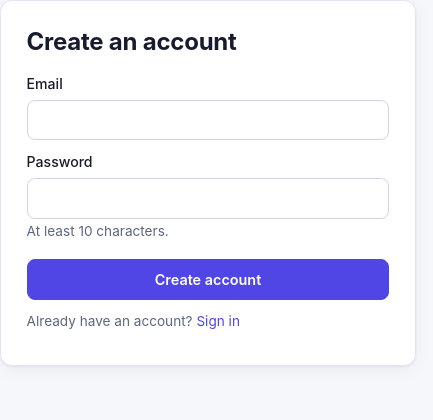
AuthPage register › reports an email that is already registered
The width and height of the screenshot is (433, 420).
Type "me@example.com" into the field labelled "Email" at (208, 120), box [27, 100, 389, 140]
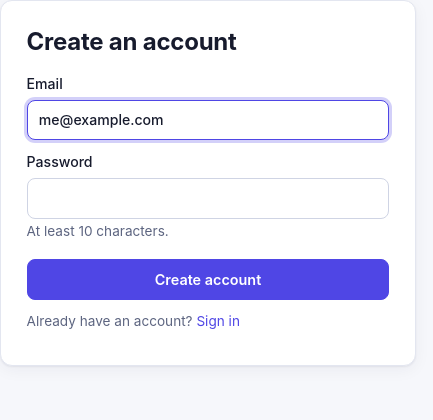
Type "a long enough password" into the password field labelled "Password" at (208, 198), box [27, 178, 389, 219]
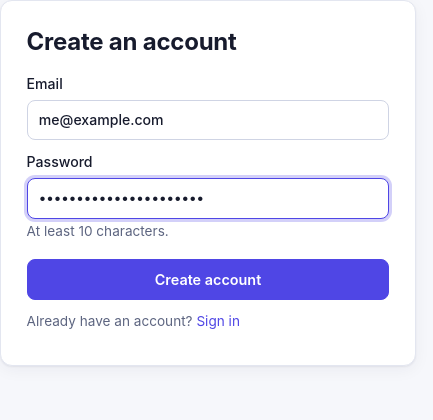
Click the button "Create account" at (208, 280), box [27, 259, 389, 300]
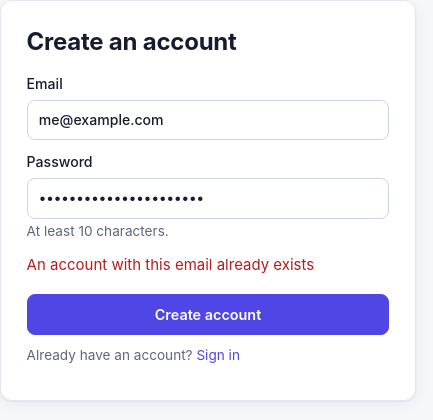
Expected: the message shows "already exists", [27, 255, 314, 274]
